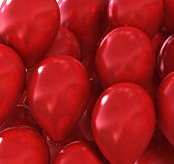Balloon: (91, 82, 156, 164), (28, 56, 91, 140), (1, 1, 60, 64), (95, 26, 156, 84), (1, 127, 49, 164)
